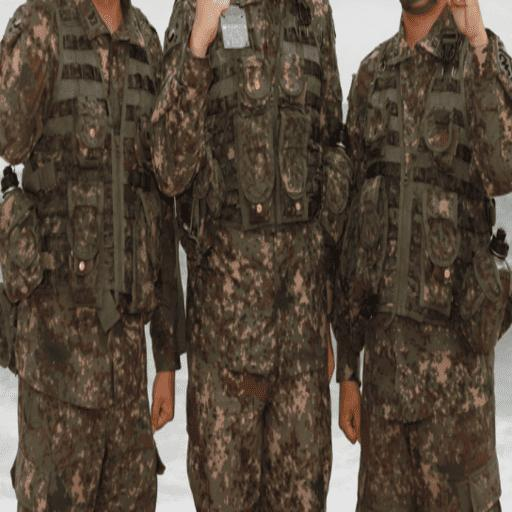korea army: (147, 0, 352, 510), (151, 2, 349, 507), (0, 2, 182, 506), (333, 4, 512, 509)
